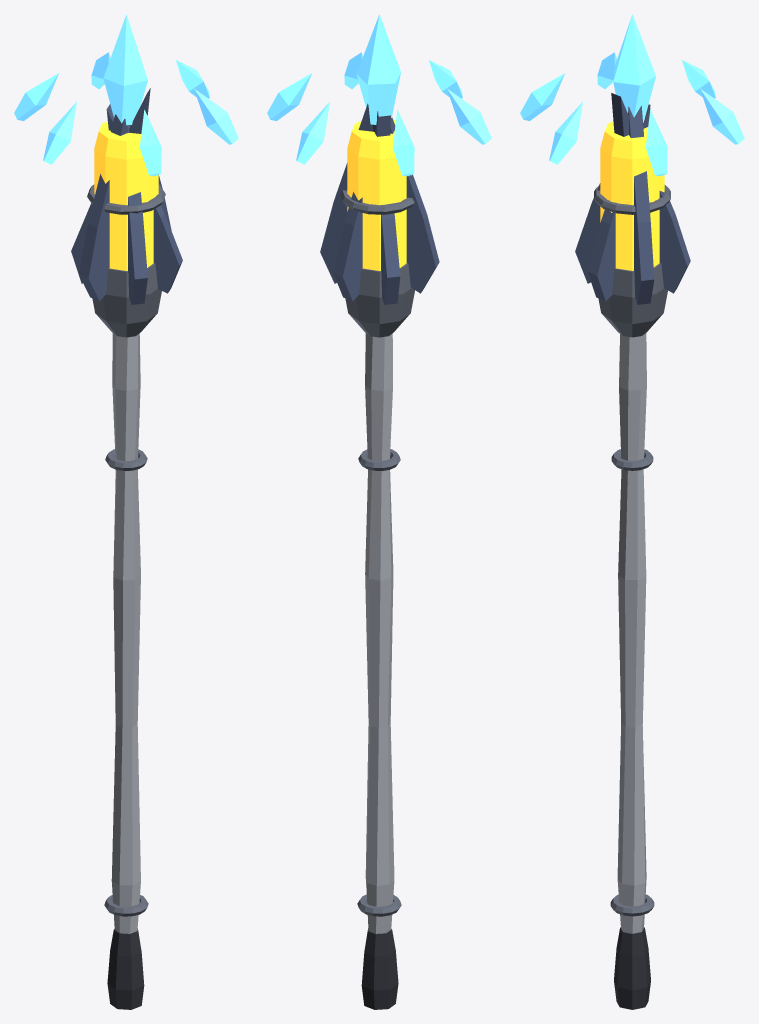
The model's file is staff_stormcore.glb.
3 renders of one model, left to right at view 1: azimuth 30°, elevation 25°; view 2: azimuth 150°, elevation 25°; view 3: azimuth 270°, elevation 25°, orthographic.
Parts seen in each view (by area): view 1: Sc_Shaft, Sc_Core, Sc_Neck, Sc_Spike, Sc_Claw3, Sc_Butt, Sc_Claw5, Sc_Claw4, Sc_Tip5, Sc_Tip3, Sc_Tip4, Sc_Tip2 (+5 smaller); view 2: Sc_Shaft, Sc_Core, Sc_Neck, Sc_Spike, Sc_Butt, Sc_Claw3, Sc_Claw1, Sc_Claw0, Sc_Claw2, Sc_Tip3, Sc_Tip1, Sc_Tip2 (+5 smaller); view 3: Sc_Shaft, Sc_Core, Sc_Neck, Sc_Claw0, Sc_Spike, Sc_Butt, Sc_Claw1, Sc_Claw5, Sc_Claw4, Sc_Tip1, Sc_Tip5, Sc_Tip0 (+6 smaller).
Part boxes in pixels (x1,y1,x2,y2): Sc_Shaft: (111,333,140,933); Sc_Core: (94,121,158,270); Sc_Neck: (92,263,161,337); Sc_Spike: (103,14,147,125); Sc_Claw3: (79,114,127,301); Sc_Butt: (107,928,144,1009); Sc_Claw5: (106,104,182,293); Sc_Claw4: (127,125,147,304); Sc_Tip5: (194,88,238,144); Sc_Tip3: (43,102,76,164); Sc_Tip4: (139,109,161,176); Sc_Tip2: (14,73,58,121); Sc_Shaft: (365,333,394,933); Sc_Core: (347,120,411,270); Sc_Neck: (345,263,414,337); Sc_Spike: (356,14,400,124); Sc_Butt: (361,928,398,1009); Sc_Claw3: (390,117,439,293); Sc_Claw1: (333,192,362,301); Sc_Claw0: (320,103,373,283); Sc_Claw2: (381,213,400,304); Sc_Tip3: (447,88,491,144); Sc_Tip1: (296,102,329,164); Sc_Tip2: (392,109,414,176); Sc_Shaft: (617,333,646,933); Sc_Core: (600,121,664,270); Sc_Neck: (598,263,667,337); Sc_Claw0: (628,105,654,304); Sc_Spike: (613,14,655,122); Sc_Butt: (614,927,650,1009); Sc_Claw1: (659,189,690,293); Sc_Claw5: (587,104,650,301); Sc_Claw4: (575,183,600,283); Sc_Tip1: (700,88,744,144); Sc_Tip5: (549,102,582,164); Sc_Tip0: (645,109,667,176).
Bounding box in the file's own units: 0.4949 × 2.4 × 0.4944.
